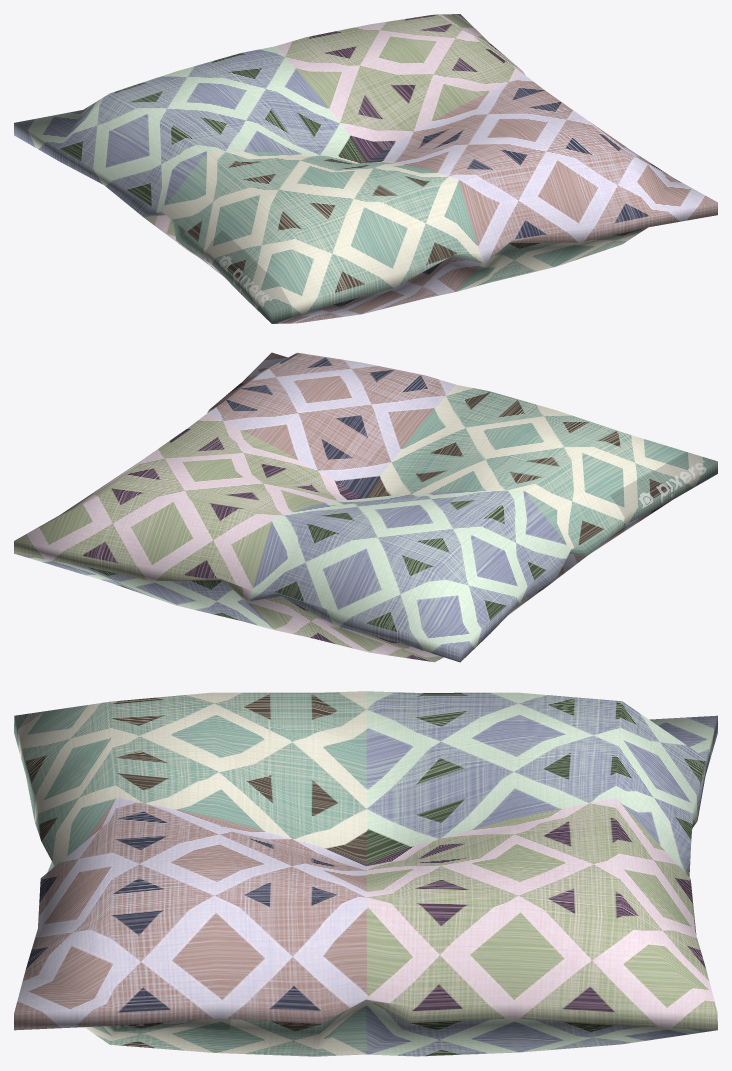
The model's file is G_Pillow2.fbx.
3 renders of one model, top to bottom at view 1: azimuth 30°, elevation 25°; view 2: azimuth 150°, elevation 25°; view 3: azimuth 270°, elevation 25°, orthographic. The views are drawn at different scales.
Parts seen in each view (by area): view 1: Pillow2; view 2: Pillow2; view 3: Pillow2.
Boxes of the visible parts, <box> form: Pillow2: <box>14,14,717,323</box>; Pillow2: <box>14,352,717,662</box>; Pillow2: <box>14,691,717,1056</box>.
Bounding box in the file's own units: 73.76 × 18.15 × 73.76.
